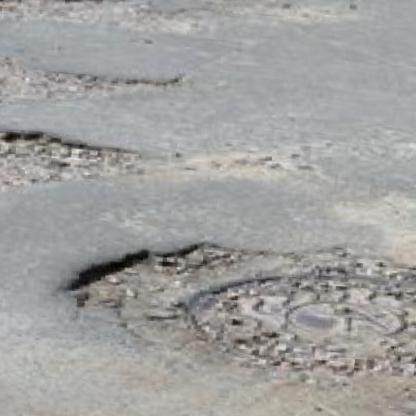pothole: (63, 230, 279, 342), (0, 113, 148, 209), (0, 50, 183, 116), (0, 0, 216, 40), (220, 0, 323, 35)
